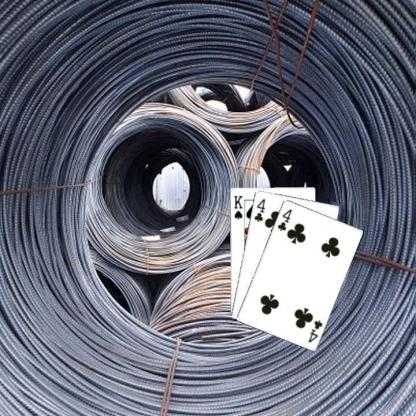4C: (306, 317, 324, 344), (275, 206, 293, 232), (251, 196, 266, 223)
KS: (231, 193, 243, 221)
